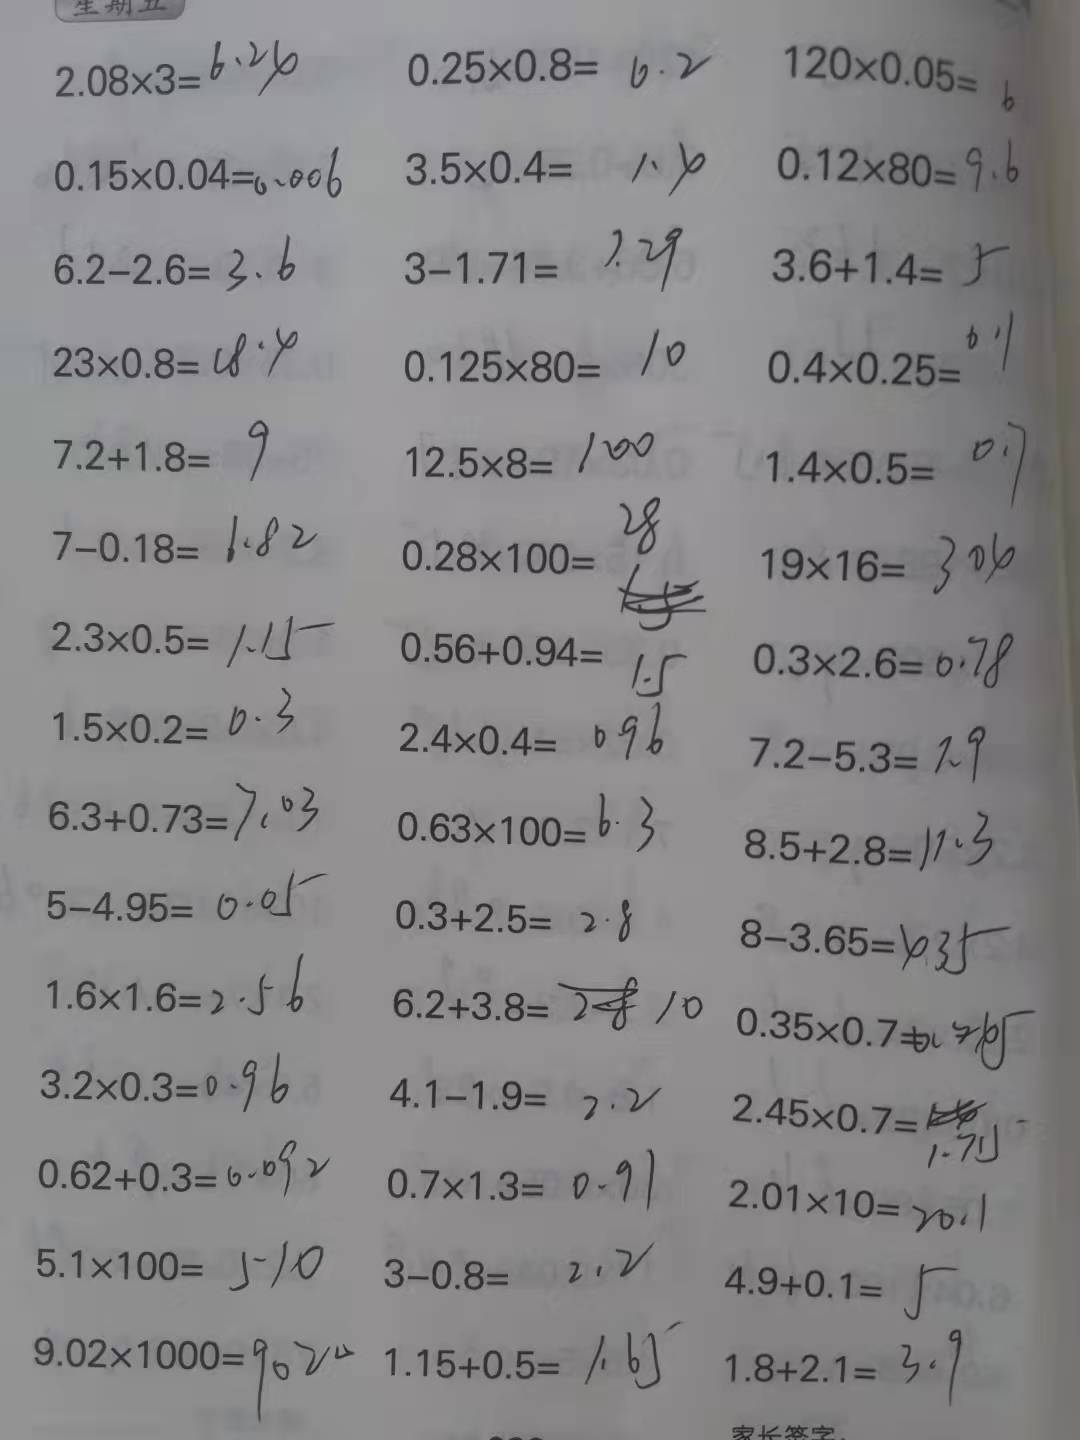equation: (18, 1314, 334, 1414), (719, 989, 1041, 1082), (757, 404, 1035, 508), (741, 615, 1022, 706), (400, 313, 697, 399), (397, 214, 691, 300), (395, 490, 680, 578), (381, 958, 706, 1034), (750, 517, 1024, 607), (724, 1087, 1026, 1168), (390, 772, 665, 859), (386, 622, 693, 700), (763, 304, 1031, 392), (20, 1219, 329, 1294), (736, 798, 1005, 882), (37, 1037, 313, 1119), (26, 1136, 337, 1208), (400, 132, 718, 201), (383, 1136, 665, 1213), (40, 27, 305, 109), (779, 32, 1024, 120), (406, 409, 660, 494), (372, 1325, 680, 1395), (726, 909, 1026, 980), (709, 1327, 982, 1403), (37, 605, 341, 672), (45, 776, 334, 845), (715, 1170, 1015, 1236), (394, 696, 678, 764), (42, 952, 326, 1020), (37, 139, 347, 201), (44, 408, 275, 490), (769, 223, 1015, 298), (391, 33, 716, 90), (773, 127, 1033, 197), (386, 881, 641, 952), (716, 1250, 956, 1324), (372, 1231, 653, 1295), (36, 510, 328, 571), (383, 1064, 668, 1126), (45, 229, 317, 294), (36, 691, 310, 754), (740, 720, 993, 786), (47, 324, 310, 386), (33, 869, 329, 922)
